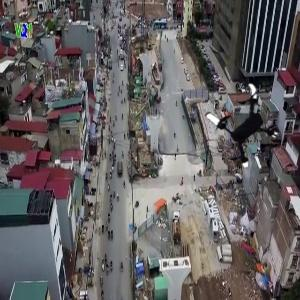drone: (198, 81, 286, 169)
